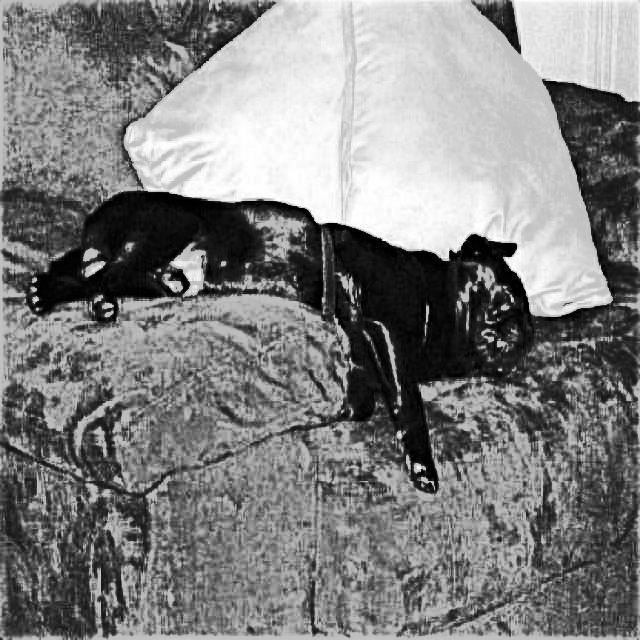Dog: (27, 183, 536, 502)
